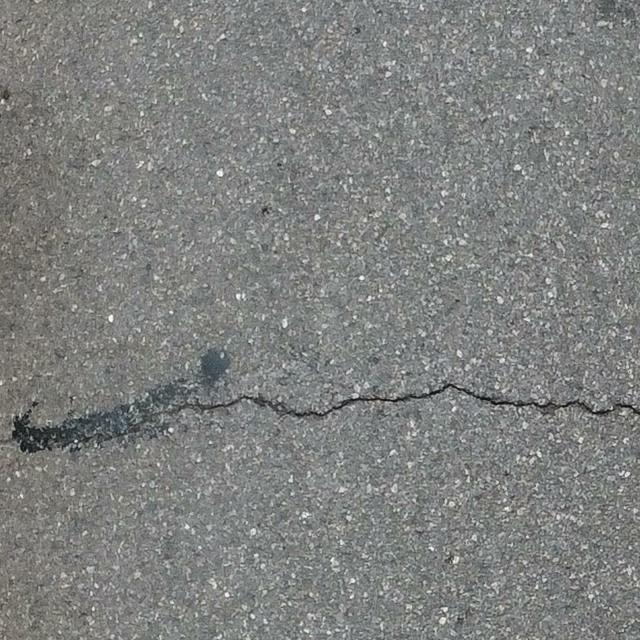TransverseCrack: (8, 382, 640, 453)
